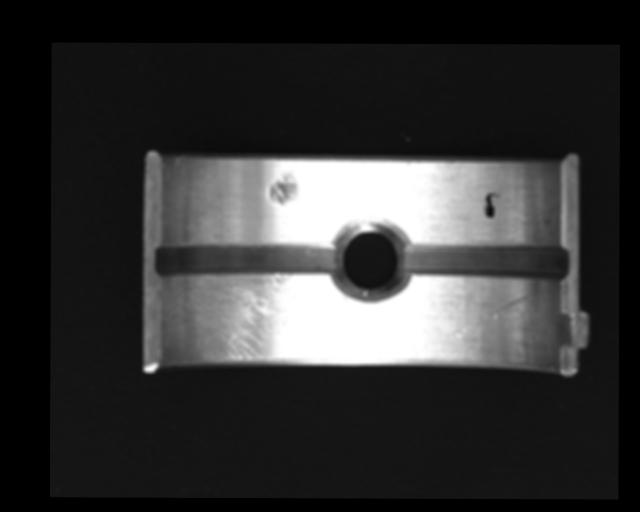blot: (482, 192, 501, 219)
bruise: (268, 168, 298, 206)
gap: (152, 241, 341, 279), (405, 243, 568, 278)
hole: (334, 219, 413, 301)
nick: (453, 291, 536, 339)
scratch: (168, 273, 336, 366)
